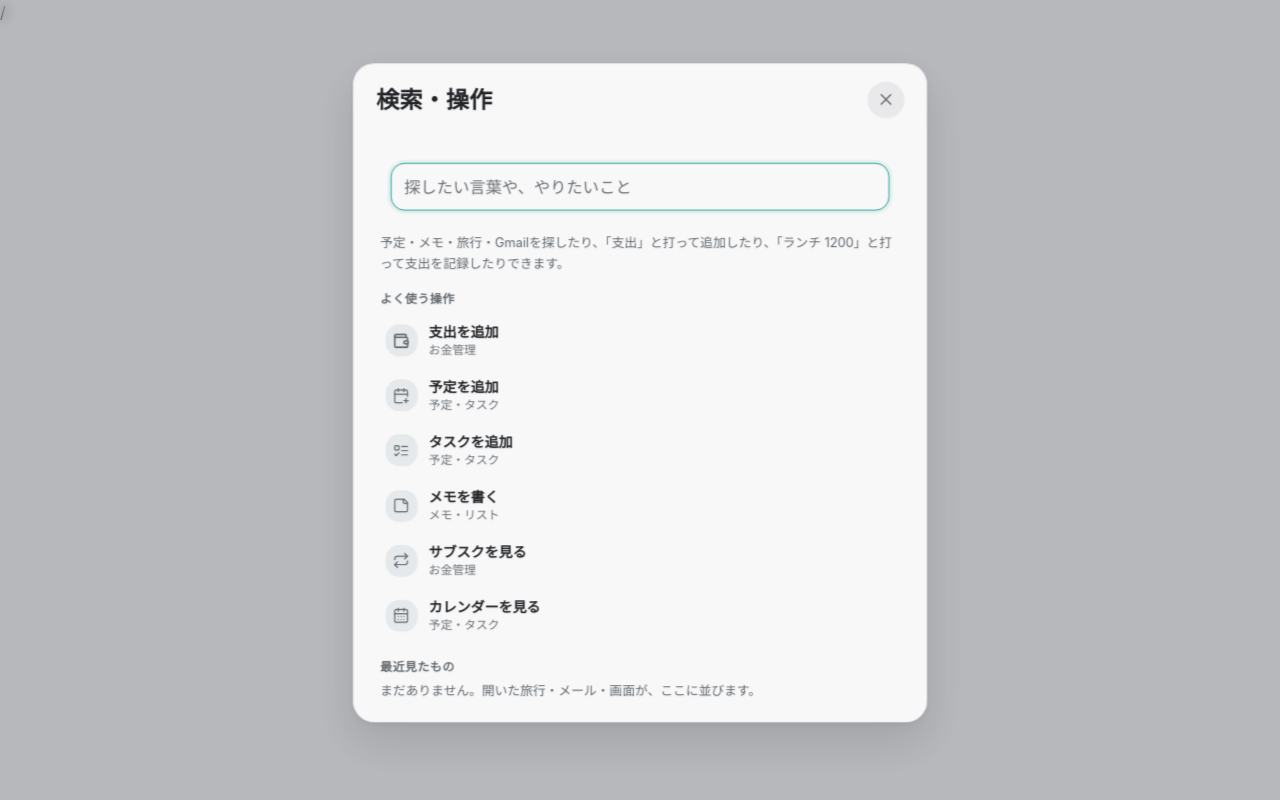
Scenario: まとめて検索から、支出を記録する(「ランチ 1200」) › 過去に同じ店で選んだカテゴリがあれば、それを使う
This screenshot has width=1280, height=800.
Type "ゲームセンター 500" into the dropdown named "まとめて検索" at [640, 186], box [390, 162, 890, 210]
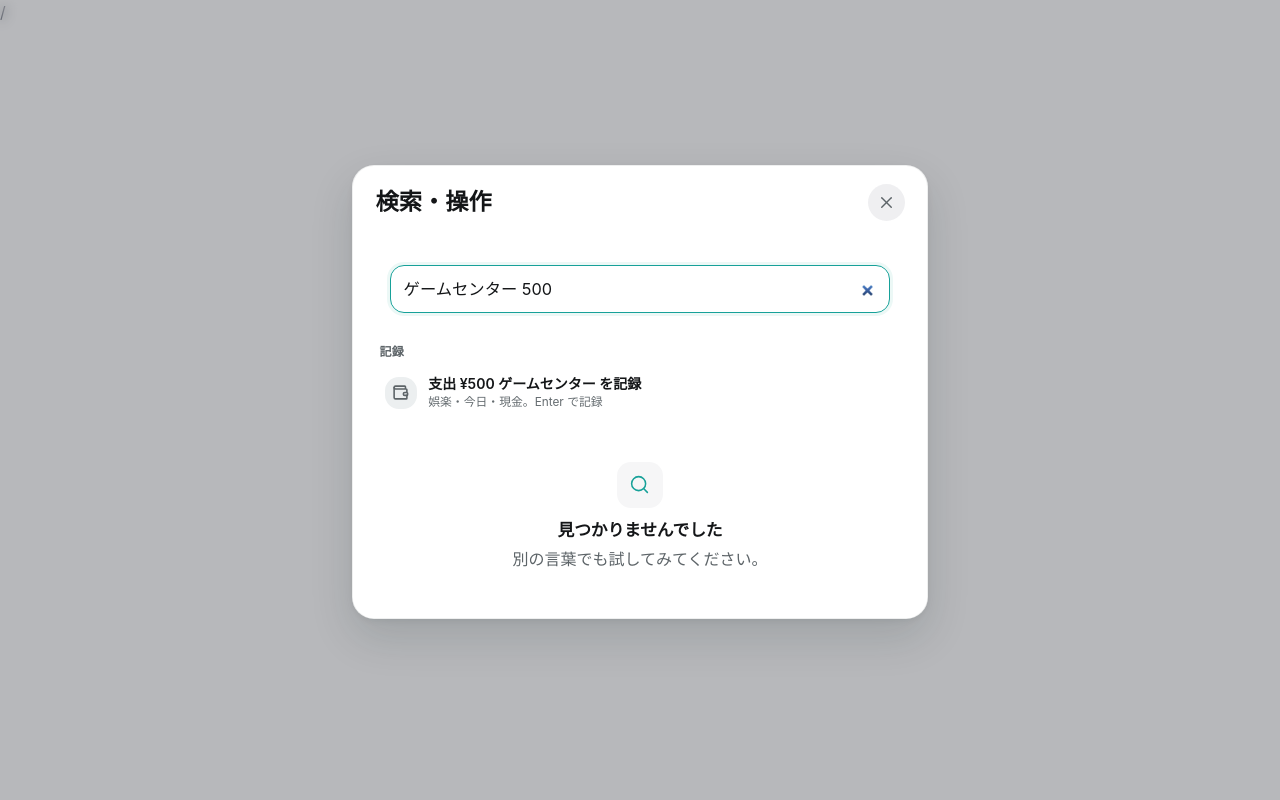
Result: the option "支出 ¥500 ゲームセンター を記録 娯楽・今日・現金。Enter で記録" is shown at [385, 376, 641, 410]
